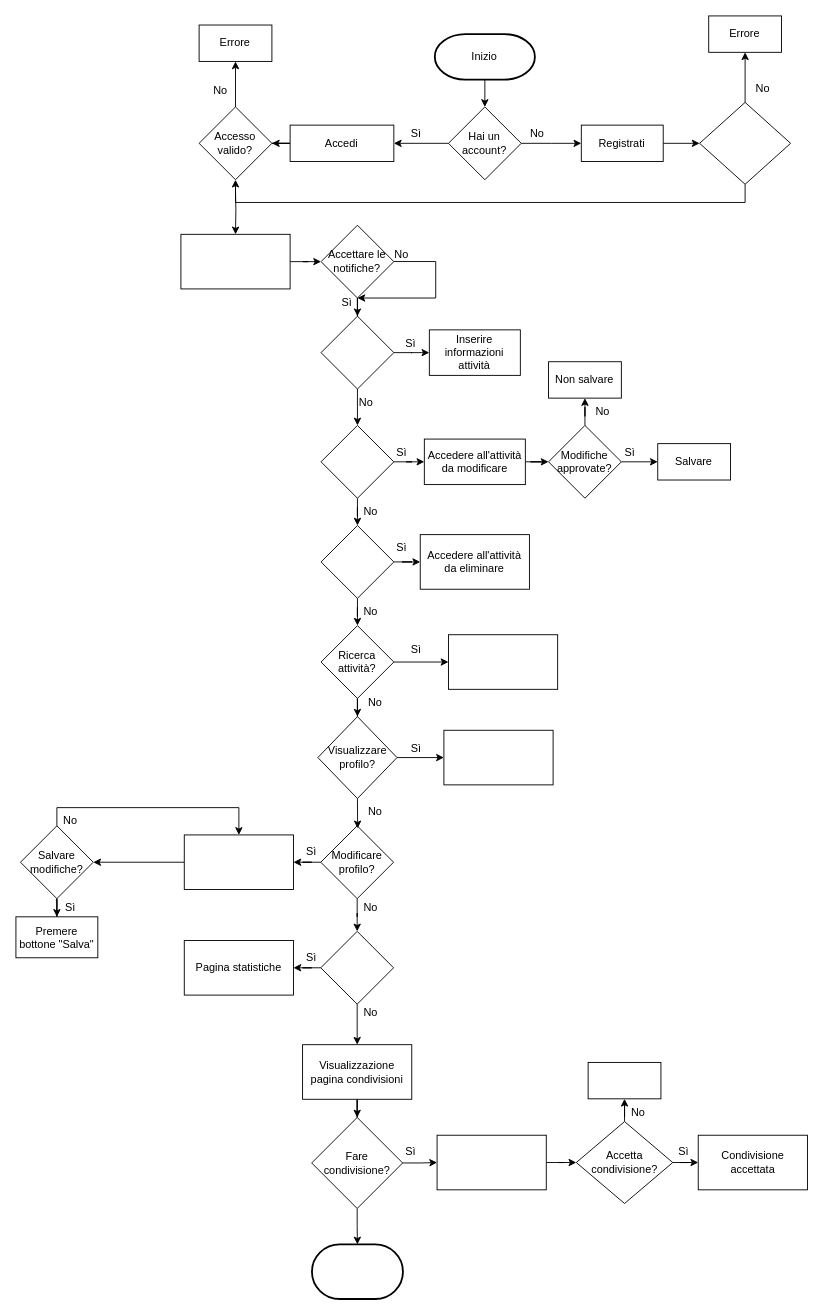
The diagram is 824 pixels wide and 1316 high, and some of its shapes have lost their labels. Each missing label, with the centre of its shape:
Aggiungere attività: (x=357, y=352)
Attività cercata: (x=503, y=661)
Condivisione rifiutata: (x=624, y=1080)
Eliminare attività?: (x=357, y=561)
Fine: (x=357, y=1271)
Manda notifica all'atro utente: (x=491, y=1162)
Modificare attività?: (x=357, y=461)
Pagina modifiche: (x=238, y=862)
Registraione valida?: (x=745, y=142)
Visualizzare statistiche?: (x=357, y=967)
Visualizzazione calendario: (x=235, y=261)
Visualizzazione profilo: (x=498, y=757)
